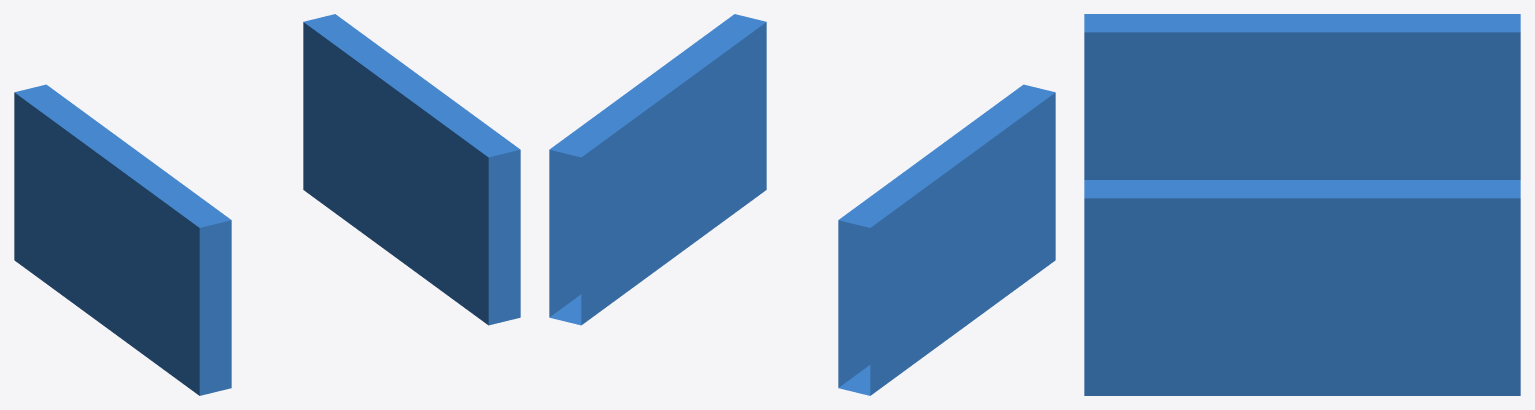
The model's file is Collision_Stairs_Exterior_Sides.fbx.
3 renders of one model, left to right at view 1: azimuth 30°, elevation 25°; view 2: azimuth 150°, elevation 25°; view 3: azimuth 270°, elevation 25°, orthographic. The views are drawn at different scales.
Visible parts, largest first — view 1: UCX_Stairs_Exterior_Sides_1; view 2: UCX_Stairs_Exterior_Sides_1; view 3: UCX_Stairs_Exterior_Sides_1.
Part boxes in pixels (<box>): UCX_Stairs_Exterior_Sides_1: <box>14,14,520,395</box>; UCX_Stairs_Exterior_Sides_1: <box>549,14,1055,395</box>; UCX_Stairs_Exterior_Sides_1: <box>1084,14,1520,395</box>.
Bounding box in the file's own units: 200 × 100 × 200.
